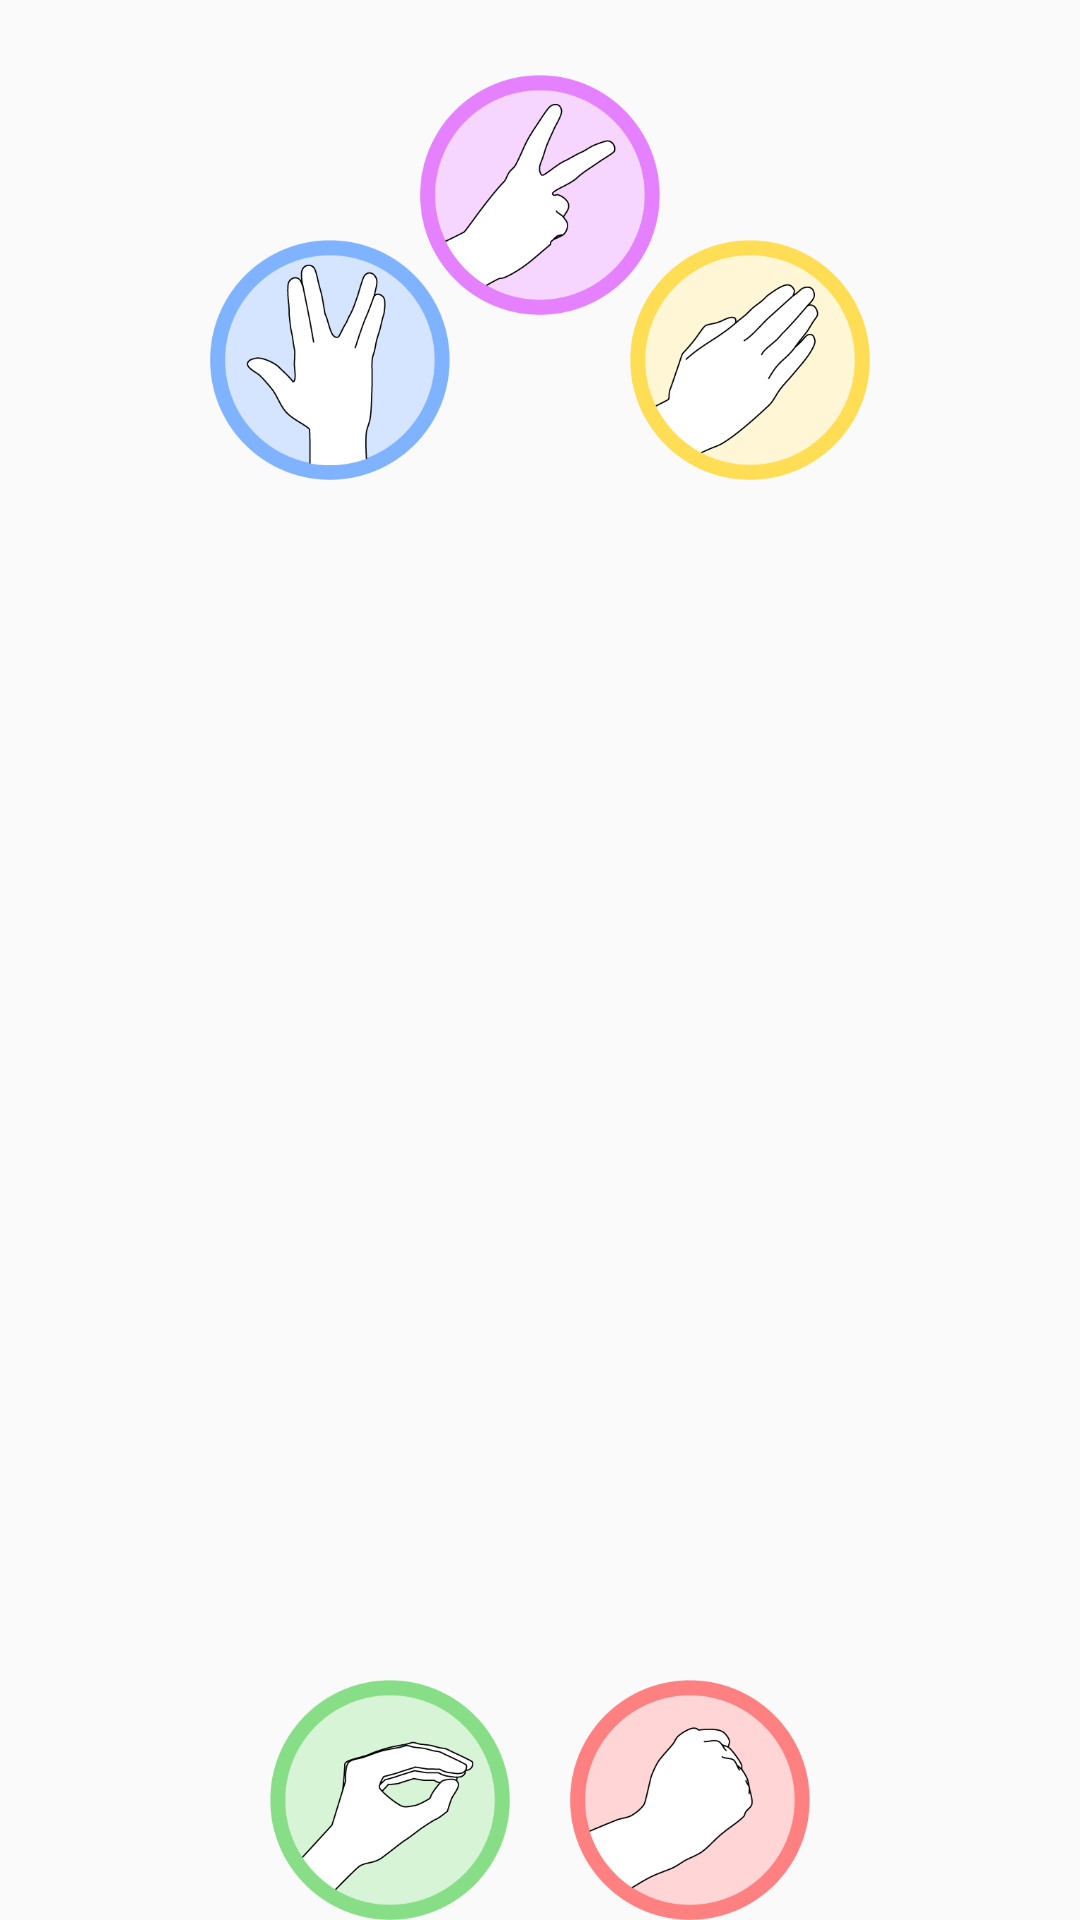

Locate icon controls on the screen. Image size 1080x1920, boxes as (x1, y1, x2, y2).
lizard: (270, 1680, 510, 1920)
paper: (630, 240, 870, 480)
rock: (570, 1680, 810, 1920)
scissors: (420, 75, 660, 315)
spock: (210, 240, 450, 480)
